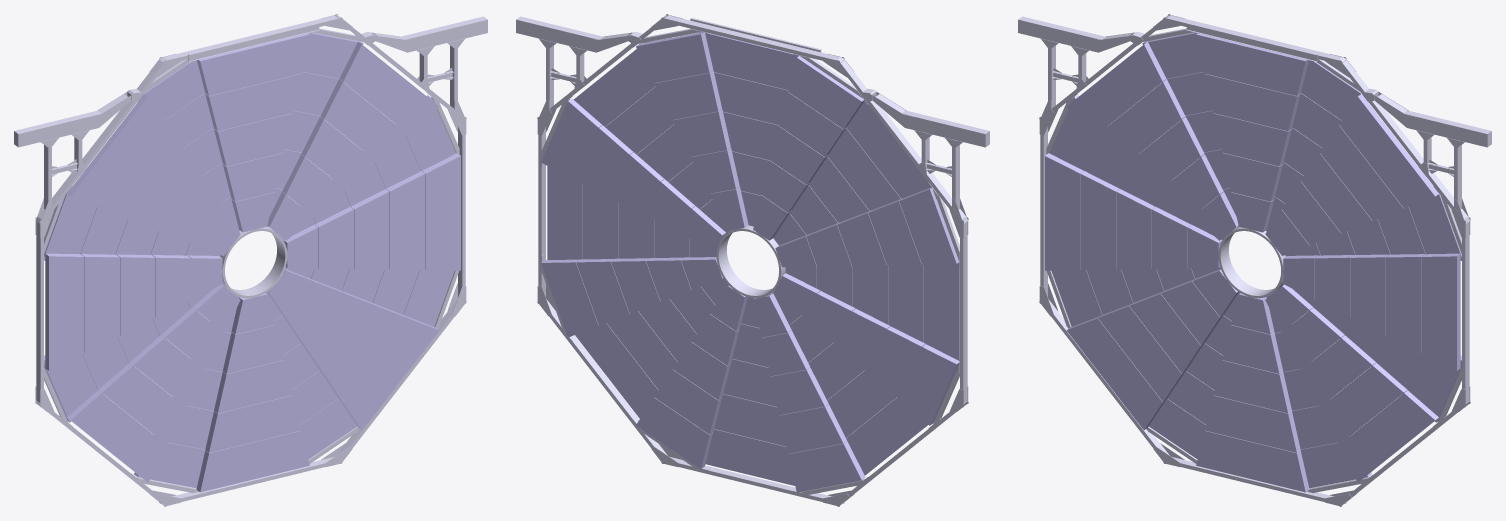
Rendered from Muon-Big-Wheel-MDT-SideA.glb.
The picture shows the model from 3 angles, left to right: view 1: azimuth 30°, elevation 25°; view 2: azimuth 150°, elevation 25°; view 3: azimuth 330°, elevation 25°; orthographic projection.
Visible parts, largest first — view 1: null; view 2: null; view 3: null.
Boxes of the visible parts, box(x1,y1,x2,y2) form: null: box(14, 14, 487, 506); null: box(516, 14, 989, 506); null: box(1018, 14, 1491, 506).
Size of the model in its own units: 25.72 by 23.42 by 0.78.
